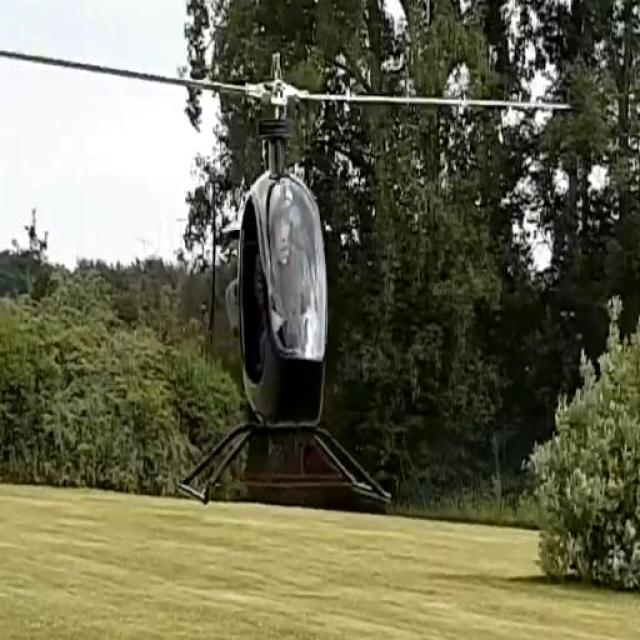drone: (164, 62, 405, 522)
